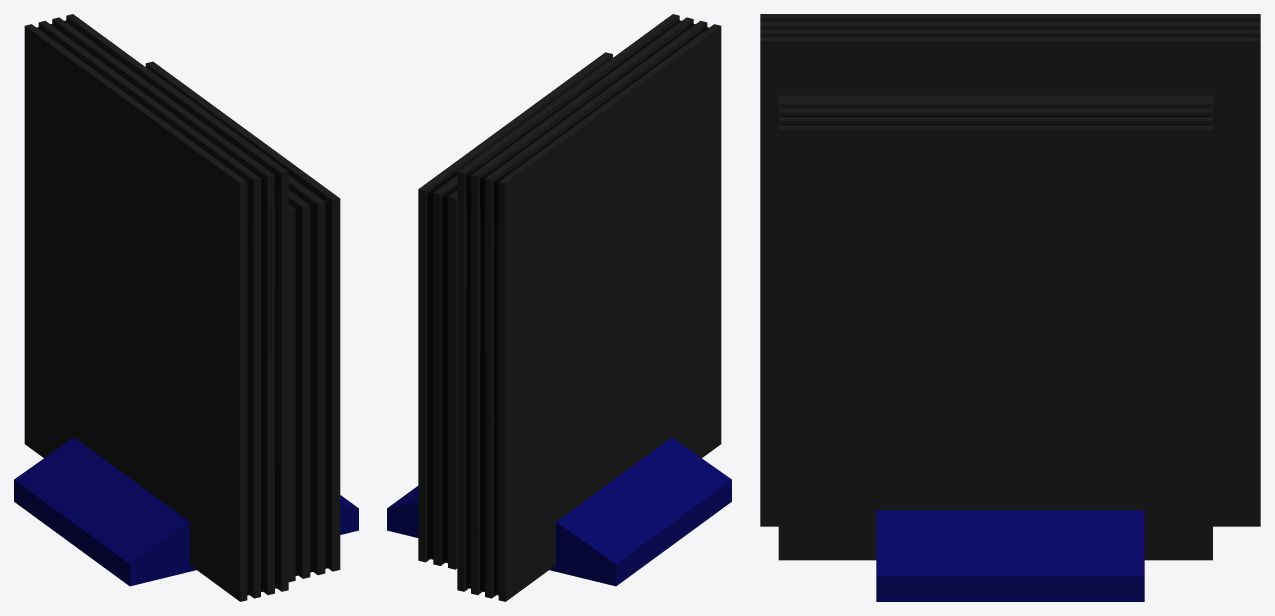
Rendered from Prop_Console_01.fbx.
The picture shows the model from 3 angles, left to right: view 1: azimuth 30°, elevation 25°; view 2: azimuth 150°, elevation 25°; view 3: azimuth 270°, elevation 25°; orthographic projection. The views are drawn at different scales.
Visible parts, largest first — view 1: Prop_Console_01; view 2: Prop_Console_01; view 3: Prop_Console_01.
Boxes of the visible parts, x1,y1,x2,y2 form: Prop_Console_01: (14,14,358,601); Prop_Console_01: (387,14,731,601); Prop_Console_01: (760,14,1260,601).
Size of the model in its own units: 21.73 by 38.49 by 35.42.
